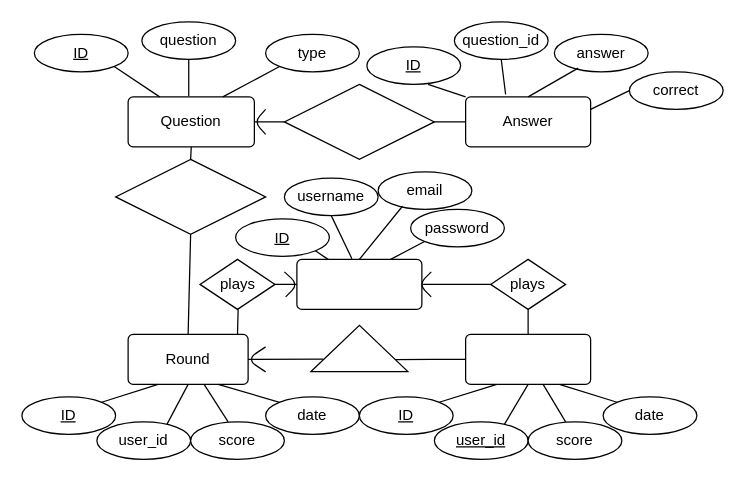
Image size: 745x481. Some labels were removed from this diagram. Each missing label, with the centre of its shape:
"has" goes at (x=358, y=121).
"ISA" goes at (x=359, y=348).
"RoundChallenge" goes at (x=527, y=358).
"RoundQuestion" goes at (x=190, y=196).
"User" goes at (x=359, y=283).
